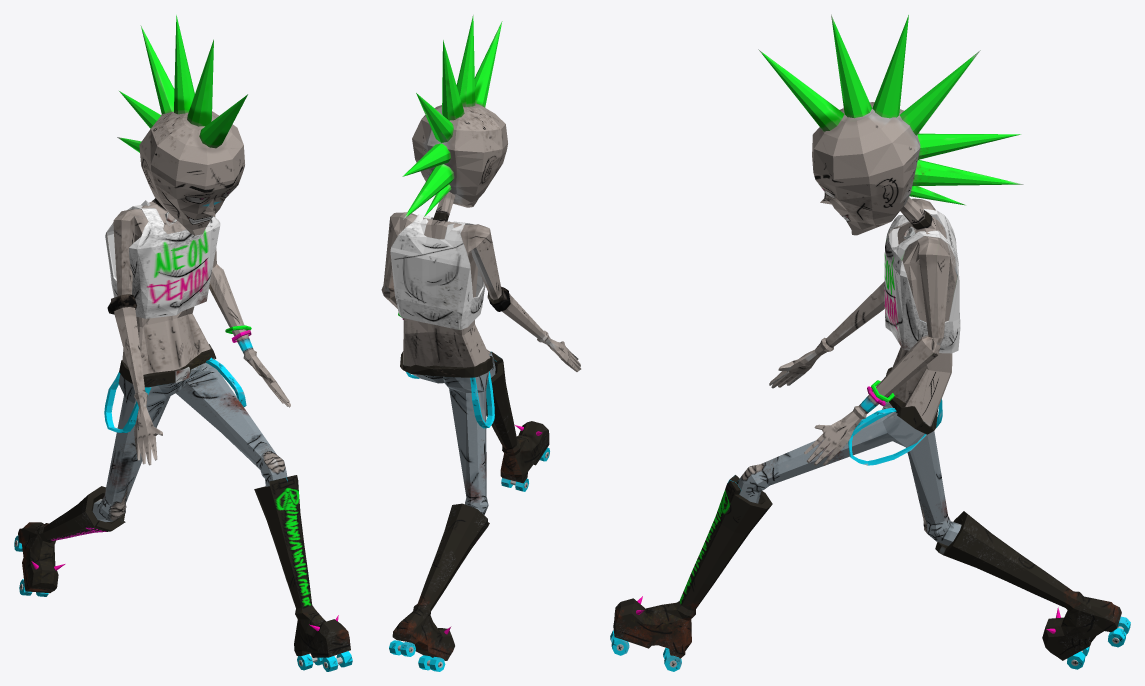
Rendered from punkAnimation_000003.obj.
The picture shows the model from 3 angles, left to right: view 1: azimuth 30°, elevation 25°; view 2: azimuth 150°, elevation 25°; view 3: azimuth 270°, elevation 25°; orthographic projection. The views are drawn at different scales.
Parts seen in each view (by area): view 1: Cube.004_Cube.003; view 2: Cube.004_Cube.003; view 3: Cube.004_Cube.003.
Part boxes in pixels (bbox=[...]): Cube.004_Cube.003: bbox=[14, 15, 352, 671]; Cube.004_Cube.003: bbox=[381, 15, 581, 671]; Cube.004_Cube.003: bbox=[610, 14, 1130, 671].
Bounding box in the file's own units: 1.9 × 6.91 × 4.75.
